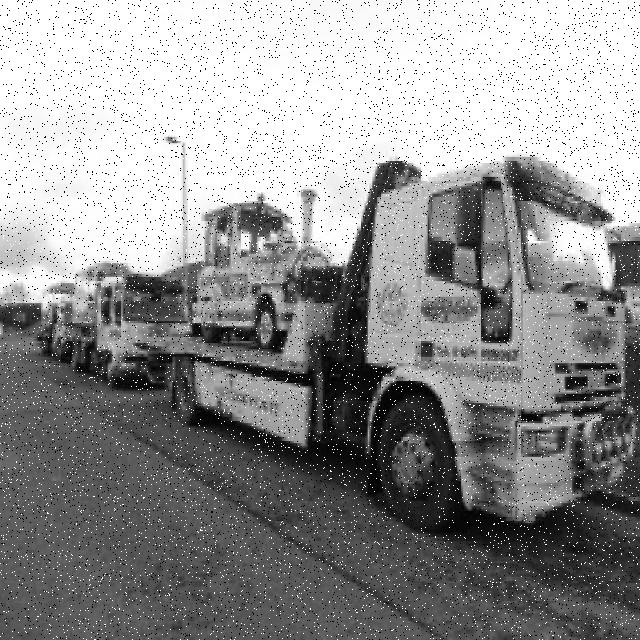Tow Truck: (169, 158, 636, 533)
